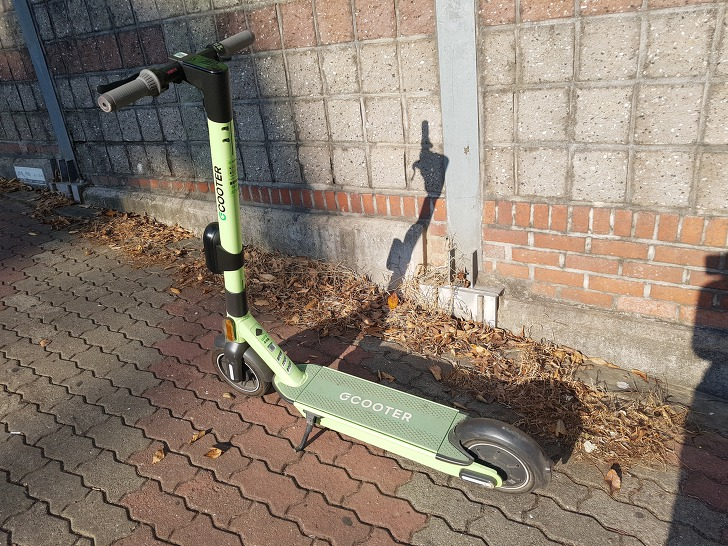scooter: (94, 31, 546, 496)
